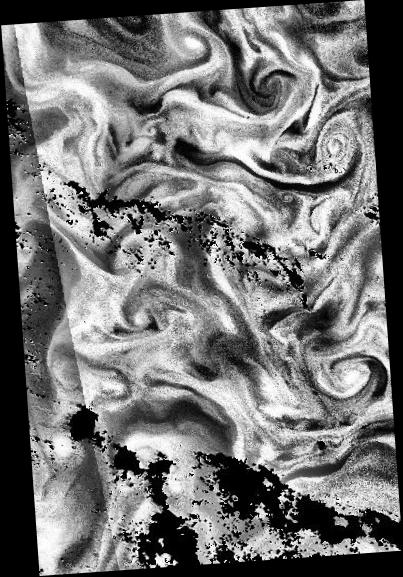CE: (329, 352, 368, 399), (317, 123, 349, 175), (171, 24, 209, 63), (250, 70, 285, 106), (141, 119, 158, 137)
